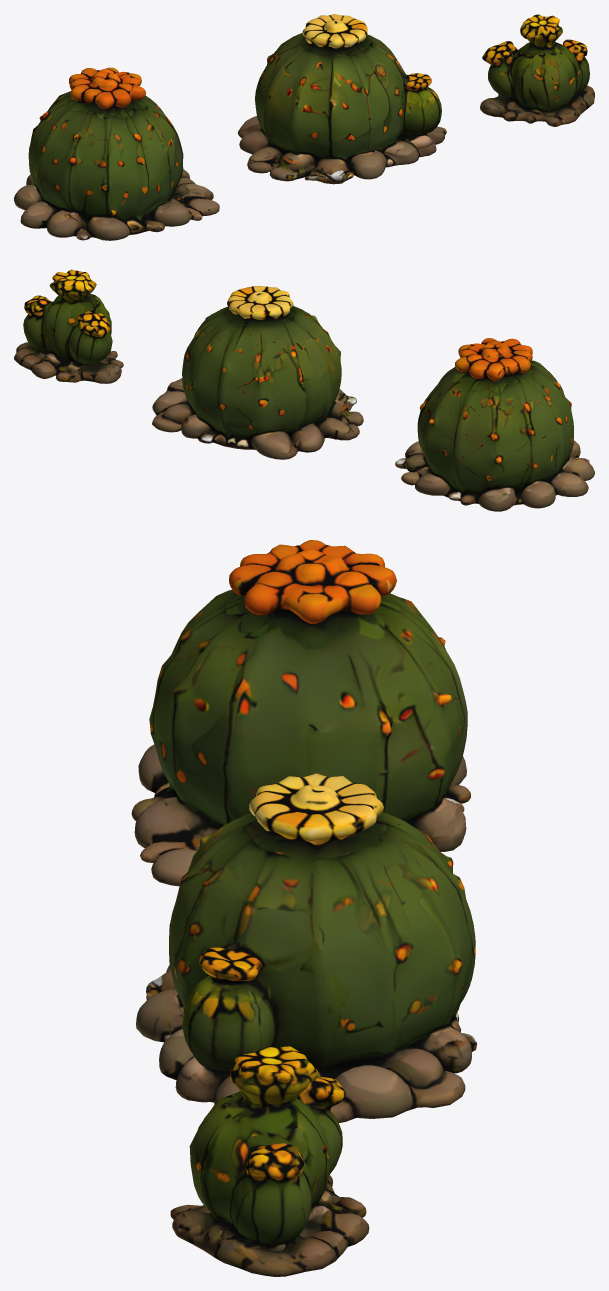
The model's file is planta_de_cactus.fbx.
3 renders of one model, top to bottom at view 1: azimuth 30°, elevation 25°; view 2: azimuth 150°, elevation 25°; view 3: azimuth 270°, elevation 25°, orthographic. The views are drawn at different scales.
Visible parts, largest first — view 1: tripo_node_beb411c7; view 2: tripo_node_beb411c7; view 3: tripo_node_beb411c7.
Boxes of the visible parts, x1,y1,x2,y2 form: tripo_node_beb411c7: (14, 14, 594, 240); tripo_node_beb411c7: (14, 269, 594, 511); tripo_node_beb411c7: (131, 540, 476, 1276).
Size of the model in its own units: 99.81 by 21.8 by 26.46.
Materials: 1 (1 with a texture image).
